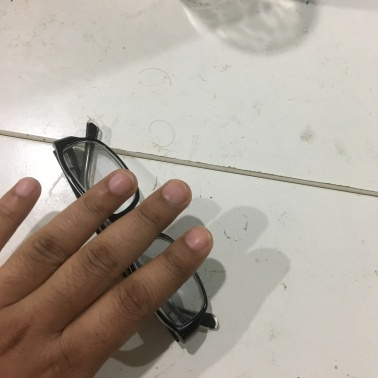glasses: (54, 129, 202, 338)
